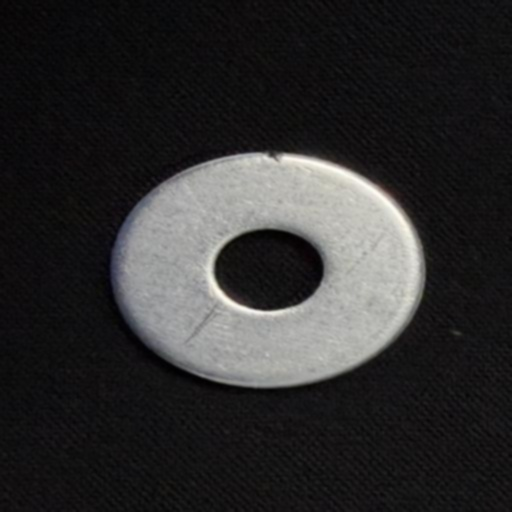Scratch: (174, 298, 224, 346)
chip off: (255, 140, 299, 168)
